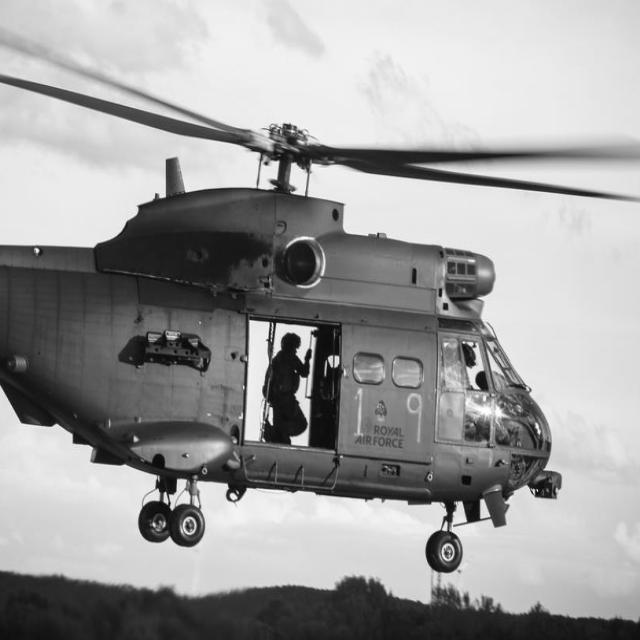helicopter: (1, 71, 637, 573)
